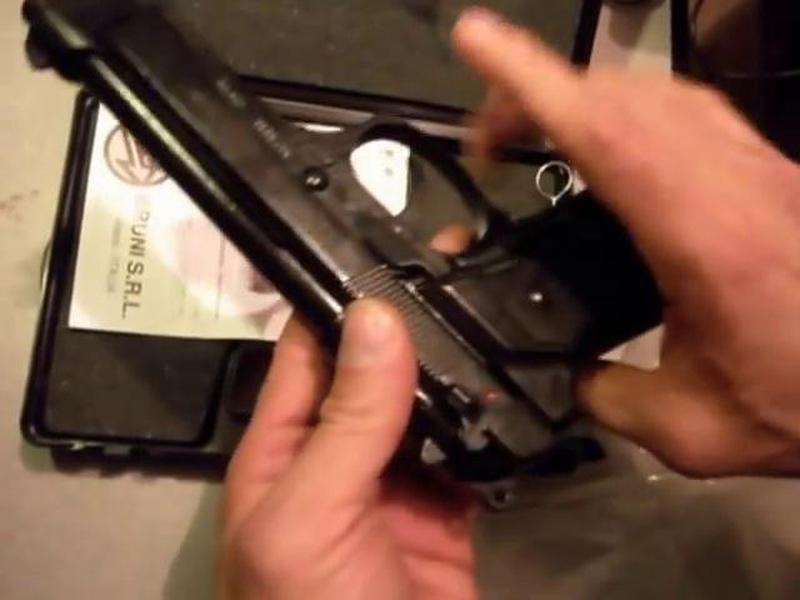Pistola: (23, 13, 717, 483)
